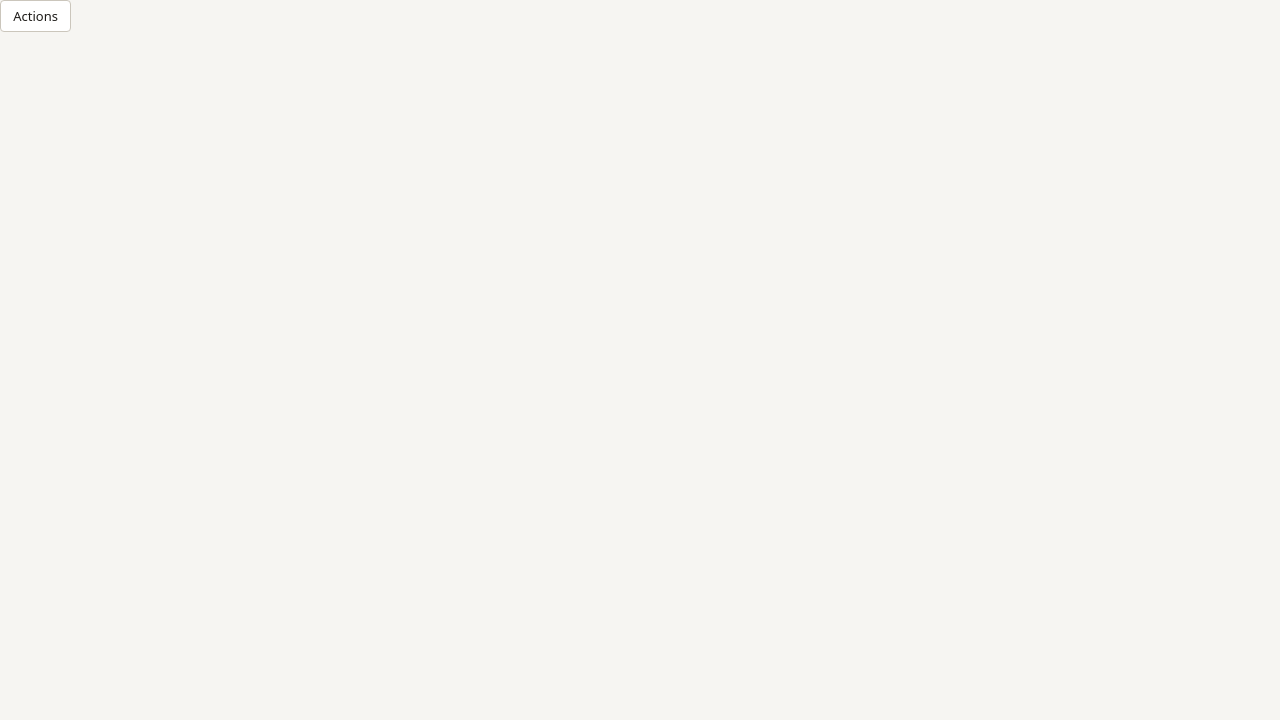
primitive regressions › a dialog opened from a menu item returns focus to the menu trigger
Later steps or results of the test are not shown.
Click the button "Actions". click: (36, 16)
box: [0,0,71,32]
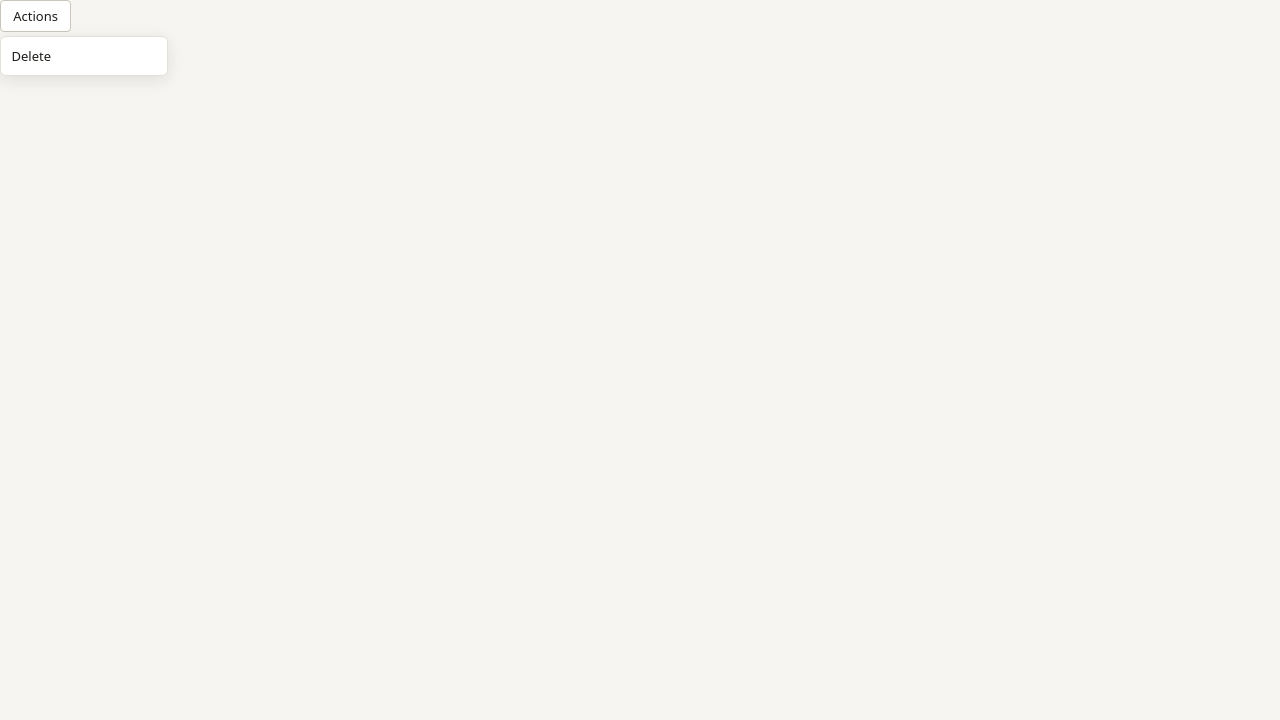
Click the menu item "Delete". click: (31, 56)
box: [12,47,51,65]
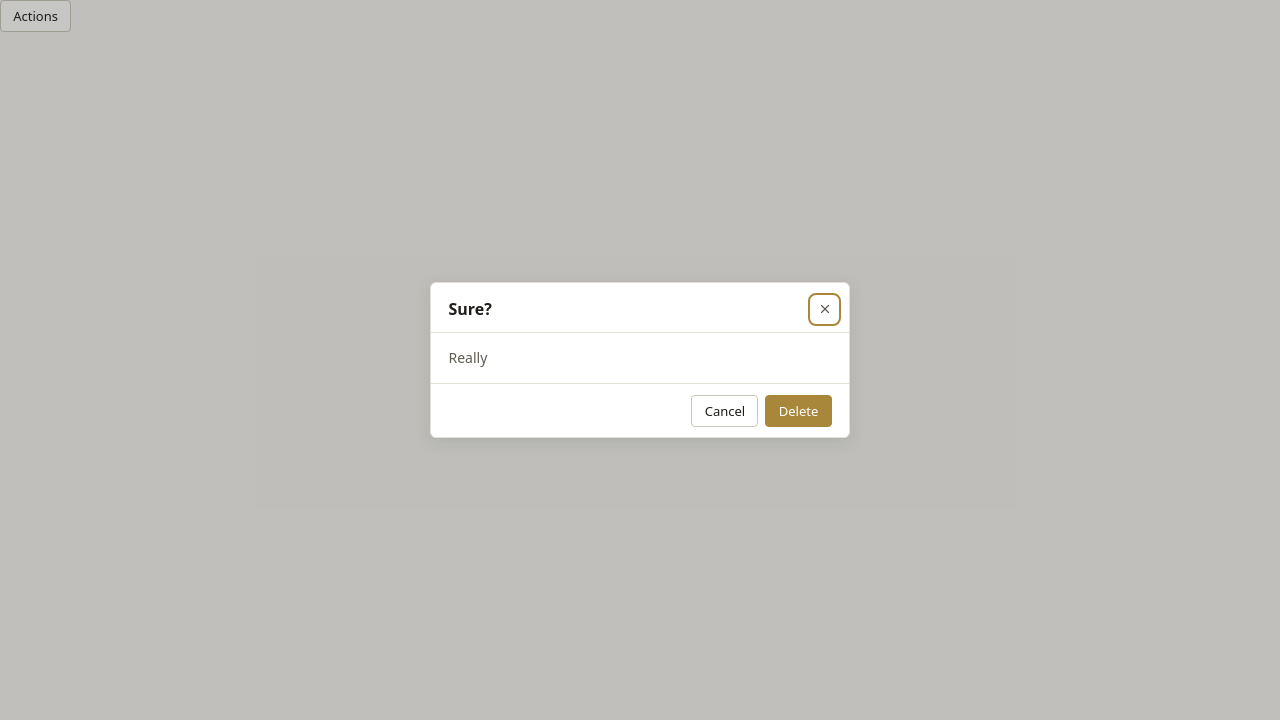
Check: the dialog is shown, box [430,282,850,438]
